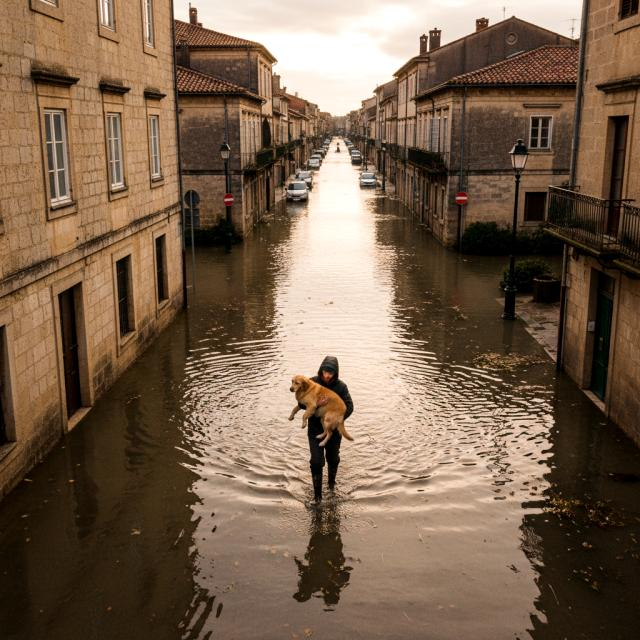civilian: (295, 351, 360, 506)
dog: (284, 372, 360, 454)
